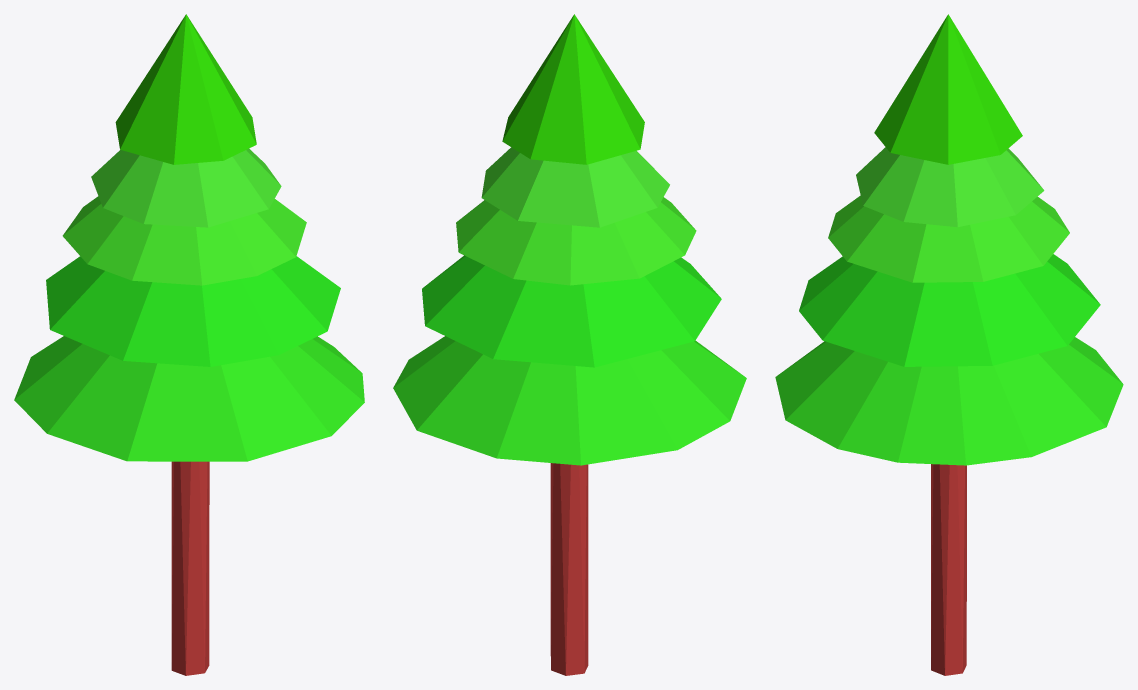
File: pine tree.fbx
3 views of the same model, side by side, from view 1: azimuth 30°, elevation 25°; view 2: azimuth 150°, elevation 25°; view 3: azimuth 270°, elevation 25° (orthographic).
Parts seen in each view (by area): view 1: Cone.004; view 2: Cone.004; view 3: Cone.004.
Boxes of the visible parts, left/top/right/bottom form: Cone.004: left=14, top=14, right=364, bottom=675; Cone.004: left=393, top=14, right=746, bottom=675; Cone.004: left=775, top=14, right=1123, bottom=675.
Bounding box in the file's own units: 283 × 581 × 282.
